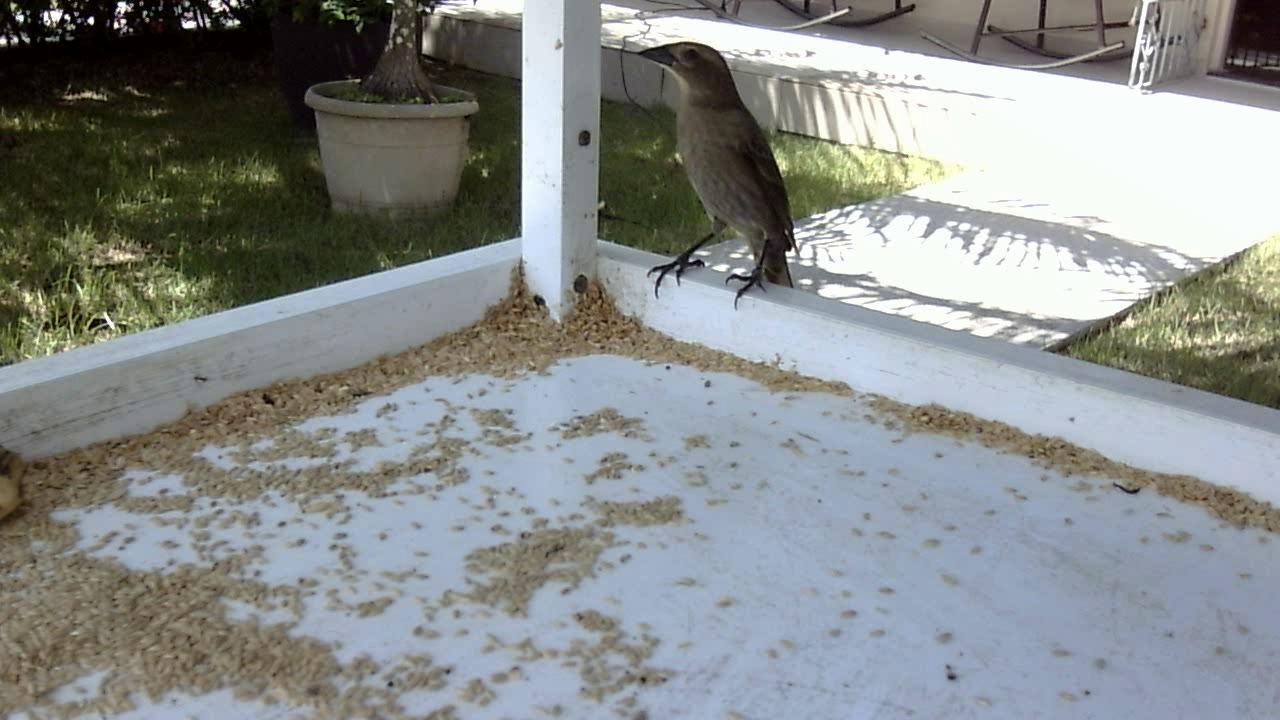chupim: (632, 37, 816, 318)
